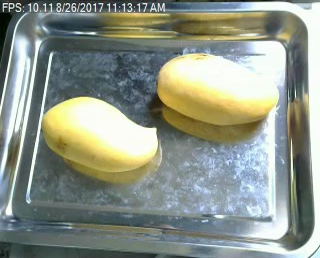Mango: (154, 46, 281, 127), (42, 92, 163, 175)
